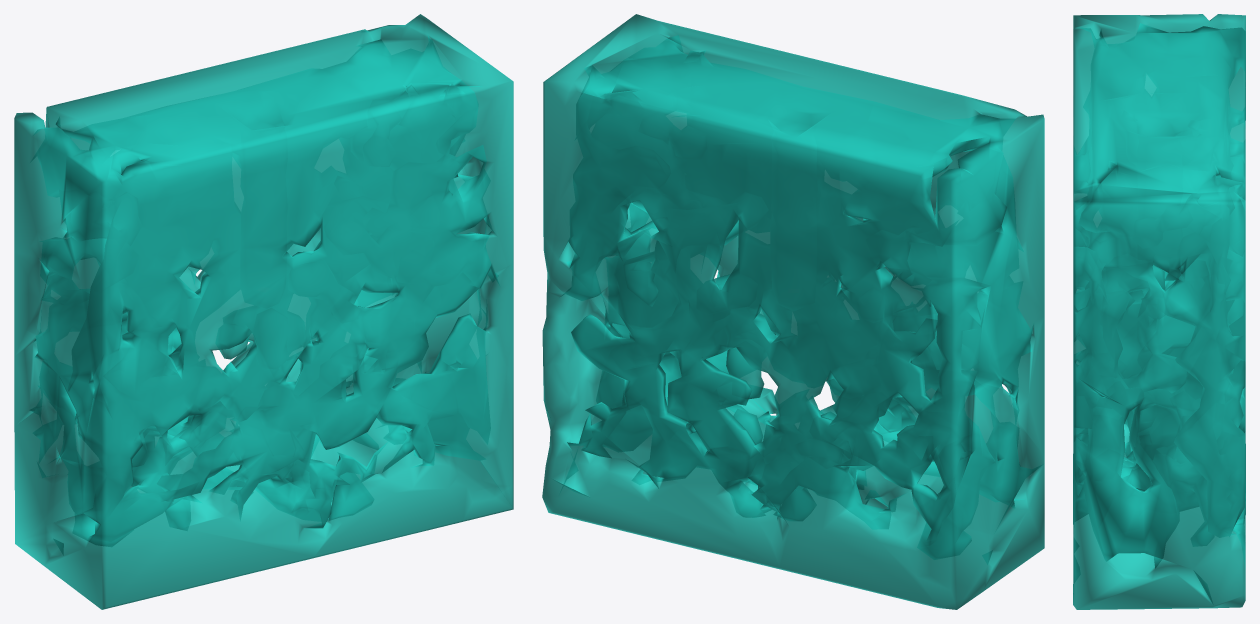
3 views of the same model, side by side, from view 1: azimuth 30°, elevation 25°; view 2: azimuth 150°, elevation 25°; view 3: azimuth 270°, elevation 25° (orthographic). The views are drawn at different scales.
Parts seen in each view (by area): view 1: Liquid_Domain; view 2: Liquid_Domain; view 3: Liquid_Domain.
Boxes of the visible parts, bbox=[...] form: Liquid_Domain: bbox=[14, 14, 513, 609]; Liquid_Domain: bbox=[542, 14, 1044, 609]; Liquid_Domain: bbox=[1073, 14, 1245, 609].
Bounding box in the file's own units: 1948 × 1948 × 749.
